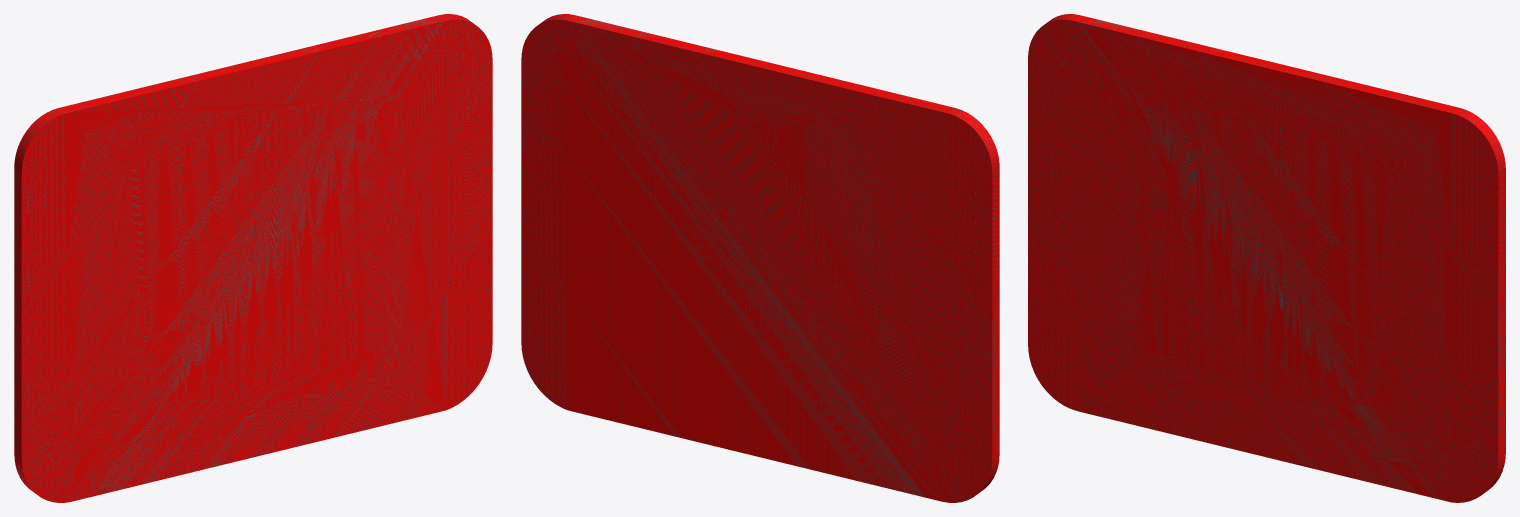
Rendered from original-57.obj.
3 views of the same model, side by side, from view 1: azimuth 30°, elevation 25°; view 2: azimuth 150°, elevation 25°; view 3: azimuth 330°, elevation 25° (orthographic).
Parts seen in each view (by area): view 1: mesh79/mesh79-geometry/material_0#mesh79-geometry; view 2: mesh79/mesh79-geometry/material_0#mesh79-geometry; view 3: mesh79/mesh79-geometry/material_0#mesh79-geometry.
Boxes of the visible parts, <box> form: mesh79/mesh79-geometry/material_0#mesh79-geometry: <box>14,14,492,502</box>; mesh79/mesh79-geometry/material_0#mesh79-geometry: <box>521,14,999,502</box>; mesh79/mesh79-geometry/material_0#mesh79-geometry: <box>1028,14,1505,502</box>.
Bounding box in the file's own units: 0.1428 × 0.113 × 0.00392.
